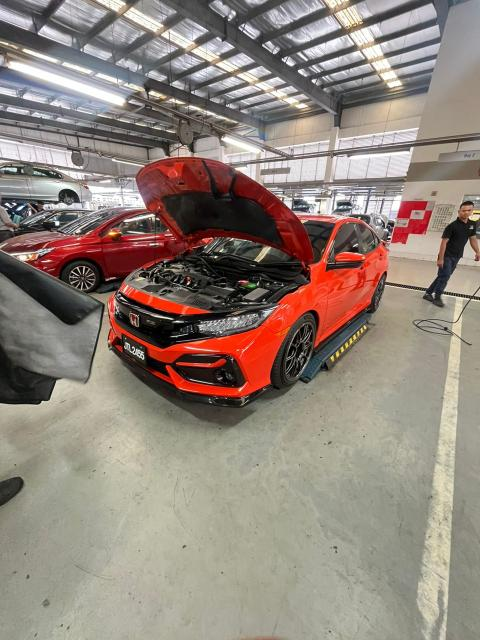License_Plate: (115, 333, 155, 371)
car: (100, 149, 391, 409)
